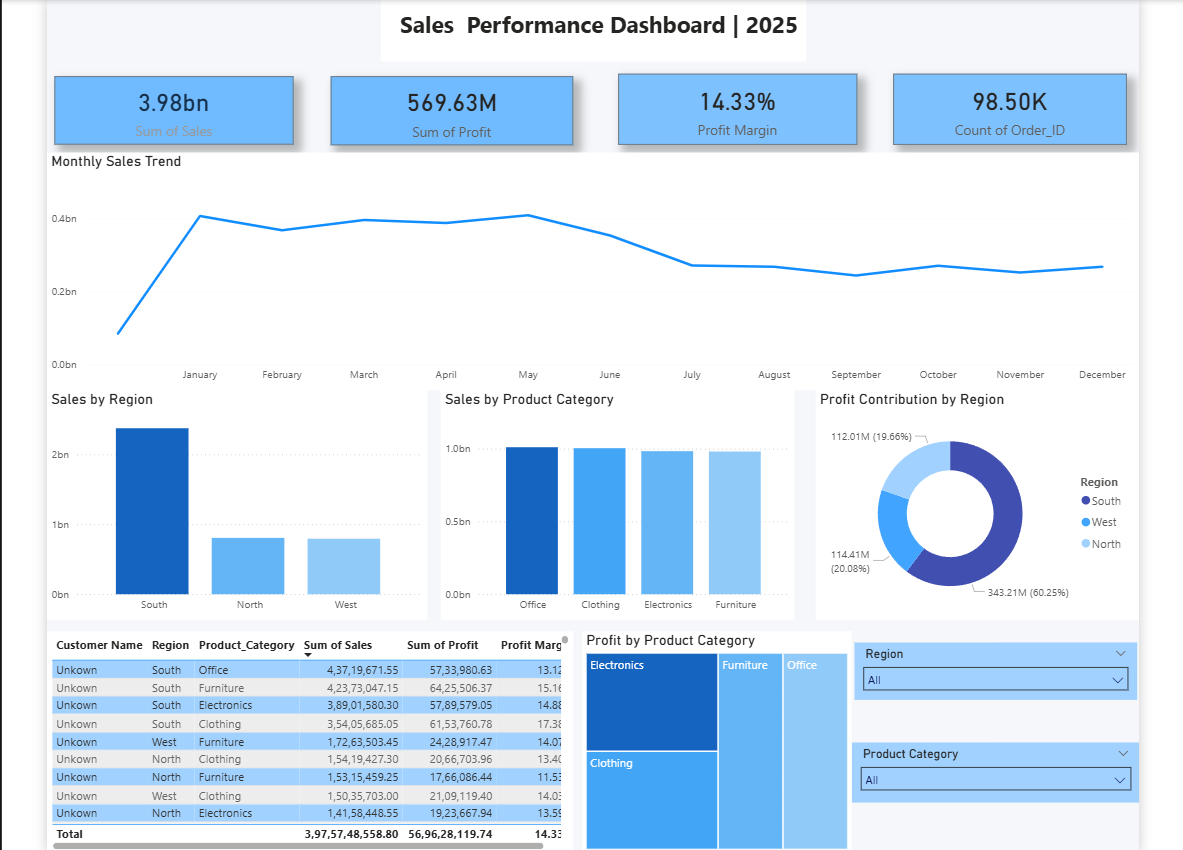

The dashboard page shown, as its layout file describes it:
{"tool":"powerbi","page":{"name":"Page 1","canvas":[1280,1000],"ordinal":0},"visuals":[{"type":"textbox","box":[10,290,280,280],"z":0},{"type":"textbox","box":[391.1,0,498,71.7],"z":1000},{"type":"card","fields":{"Values":["Sum(sales_cleaned.Sales)"]},"box":[8.9,88.9,280.1,80],"z":3000},{"type":"card","fields":{"Values":["Sum(sales_cleaned.Profit)"]},"box":[332.5,89.3,284.1,80.6],"z":4000},{"type":"card","fields":{"Values":["sales_cleaned.Profit Margin"]},"box":[669.3,86.4,279.7,83.5],"z":5000},{"type":"card","fields":{"Values":["CountNonNull(sales_cleaned.Order_ID)"]},"box":[991.5,86.4,273.9,83.5],"z":6000},{"type":"lineChart","title":"Monthly Sales Trend","fields":{"Y":["Sum(sales_cleaned.Sales)"],"Category":["sales_cleaned.Month_Name"]},"box":[0,178.7,1280,278.3],"z":7000},{"type":"clusteredColumnChart","title":" Sales by Region","fields":{"Category":["sales_cleaned.Region"],"Y":["Sum(sales_cleaned.Sales)"]},"box":[0,456.9,445.2,269.5],"z":8000},{"type":"clusteredColumnChart","title":"Sales by Product Category","fields":{"Category":["sales_cleaned.Product_Category"],"Y":["Sum(sales_cleaned.Sales)"]},"box":[461.3,456.9,414.5,269.5],"z":9000},{"type":"tableEx","fields":{"Values":["sales_cleaned.Customer_Name","sales_cleaned.Region","sales_cleaned.Product_Category","Sum(sales_cleaned.Sales)","Sum(sales_cleaned.Profit)","sales_cleaned.Profit Margin"]},"box":[0,739.2,616.5,260.8],"z":10000},{"type":"donutChart","title":"Profit Contribution by Region","fields":{"Category":["sales_cleaned.Region"],"Y":["Sum(sales_cleaned.Profit)"]},"box":[900.7,456.9,379.3,269.5],"z":11000},{"type":"treemap","title":"Profit by Product Category","fields":{"Group":["sales_cleaned.Product_Category"],"Values":["Sum(sales_cleaned.Profit)"]},"box":[626.8,739.2,316.3,260.7],"z":12000},{"type":"slicer","fields":{"Values":["sales_cleaned.Product_Category"]},"box":[943.2,870,336.8,70.3],"z":14000},{"type":"slicer","fields":{"Values":["sales_cleaned.Region"]},"box":[946.1,752.8,331,67.4],"z":14500}]}

Visuals, with their boxes on the page's 1280x1000 design canvas (x1, y1, x2, y2). These are canvas units, not pixel positions in the 1183x850 screenshot, which may show the page scaled, cropped or inside an application window:
textbox: select_region(10, 290, 290, 570)
textbox: select_region(391, 0, 889, 72)
card - Sum(sales_cleaned.Sales): select_region(9, 89, 289, 169)
card - Sum(sales_cleaned.Profit): select_region(332, 89, 617, 170)
card - sales_cleaned.Profit Margin: select_region(669, 86, 949, 170)
card - CountNonNull(sales_cleaned.Order_ID): select_region(992, 86, 1265, 170)
"Monthly Sales Trend" lineChart: select_region(0, 179, 1280, 457)
" Sales by Region" clusteredColumnChart: select_region(0, 457, 445, 726)
"Sales by Product Category" clusteredColumnChart: select_region(461, 457, 876, 726)
tableEx - sales_cleaned.Customer_Name x sales_cleaned.Region: select_region(0, 739, 616, 1000)
"Profit Contribution by Region" donutChart: select_region(901, 457, 1280, 726)
"Profit by Product Category" treemap: select_region(627, 739, 943, 1000)
slicer - sales_cleaned.Product_Category: select_region(943, 870, 1280, 940)
slicer - sales_cleaned.Region: select_region(946, 753, 1277, 820)
